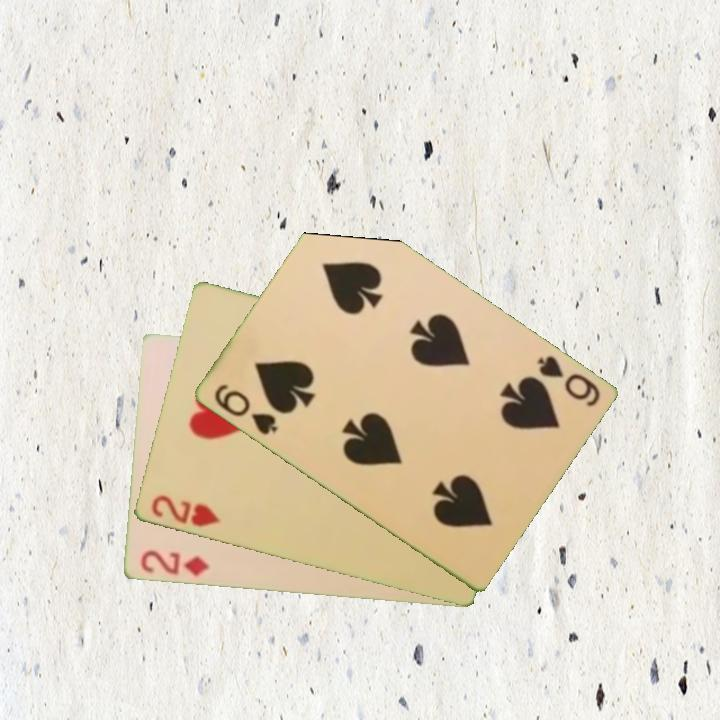2d: (136, 547, 211, 579)
2h: (147, 491, 223, 531)
6s: (210, 380, 280, 438), (533, 352, 603, 410)
